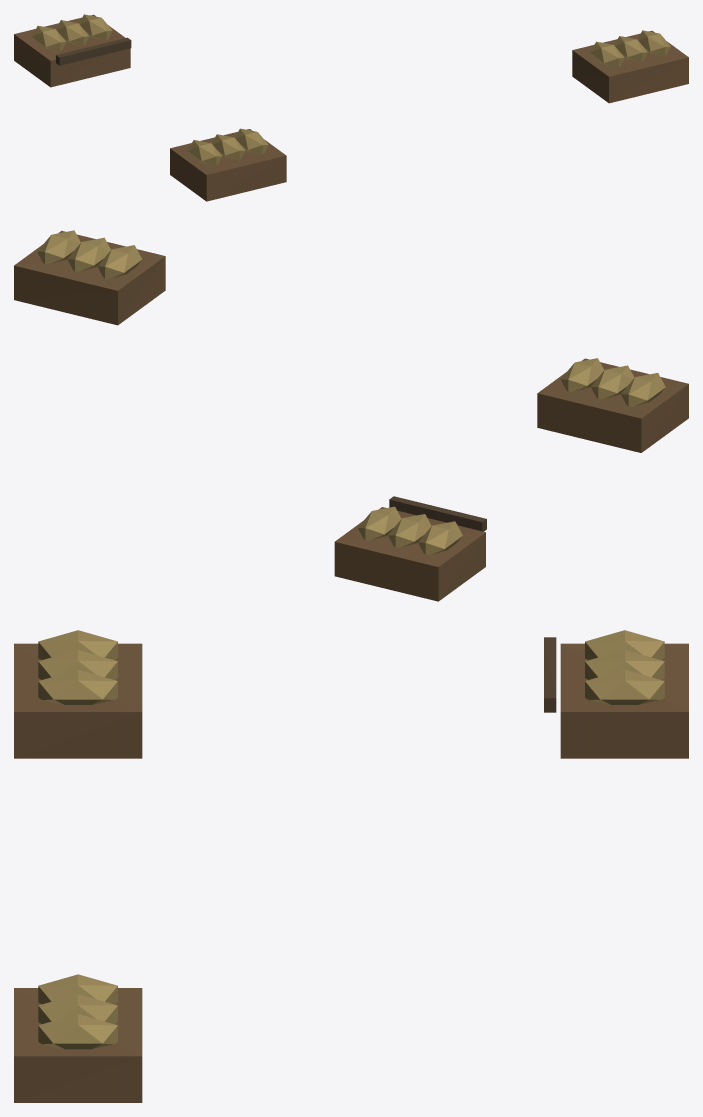
File: RES-04-4.glb
3 views of the same model, one above another, from view 1: azimuth 30°, elevation 25°; view 2: azimuth 150°, elevation 25°; view 3: azimuth 270°, elevation 25° (orthographic). The views are drawn at different scales.
Parts seen in each view (by area): view 1: city-details/RES-04-4; view 2: city-details/RES-04-4; view 3: city-details/RES-04-4.
Part boxes in pixels (left/top/right/bottom): city-details/RES-04-4: left=14, top=14, right=688, bottom=201; city-details/RES-04-4: left=14, top=230, right=688, bottom=601; city-details/RES-04-4: left=14, top=630, right=688, bottom=1102.
Bounding box in the file's own units: 8.75 × 0.6831 × 6.05.
